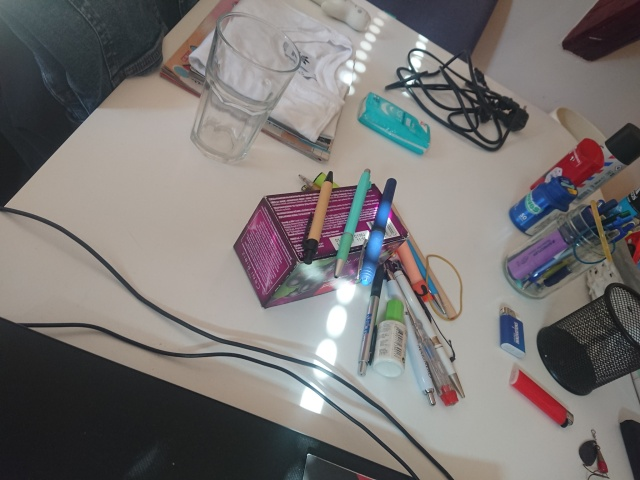Franck Black Currant Tea 60g: (231, 181, 412, 310)
